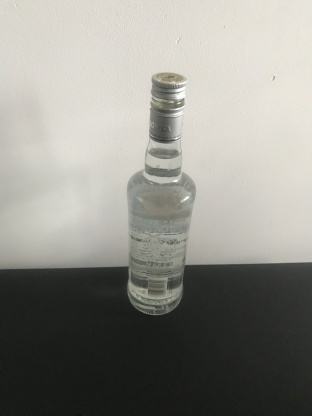nakretka: (147, 69, 188, 143)
